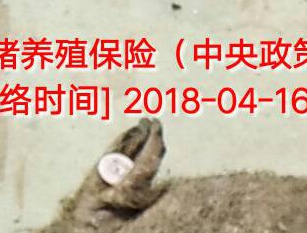text: (84, 146, 151, 197)
